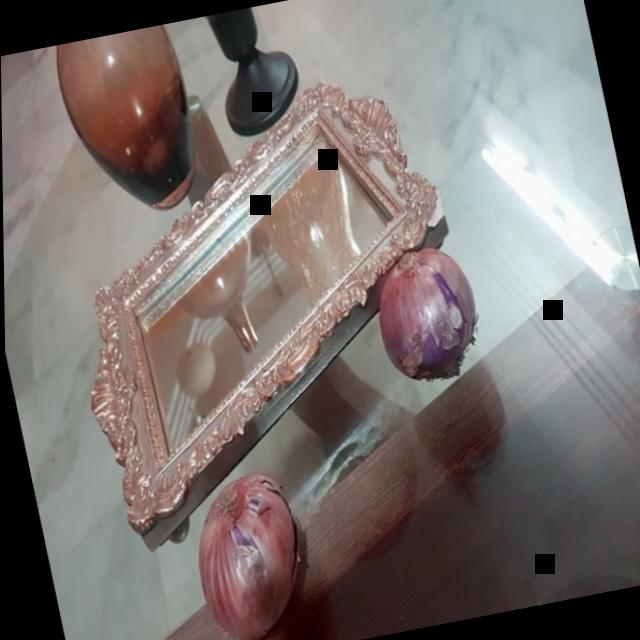onion: (163, 464, 328, 640), (354, 233, 493, 397)
